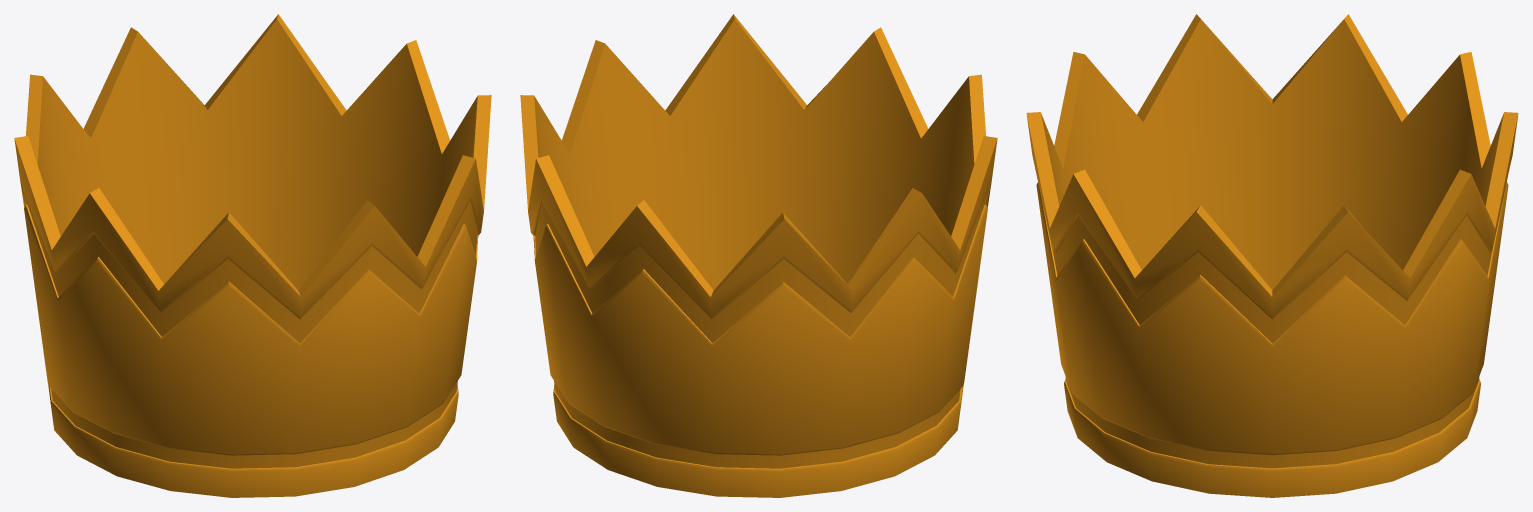
Rendered from Crown_01.fbx.
3 views of the same model, side by side, from view 1: azimuth 30°, elevation 25°; view 2: azimuth 150°, elevation 25°; view 3: azimuth 270°, elevation 25° (orthographic).
Visible parts, largest first — view 1: Crown_01; view 2: Crown_01; view 3: Crown_01.
Part boxes in pixels (bbox=[...]): Crown_01: bbox=[14, 14, 491, 497]; Crown_01: bbox=[520, 14, 997, 497]; Crown_01: bbox=[1026, 14, 1518, 497].
Bounding box in the file's own units: 2.84 × 2 × 2.98.
